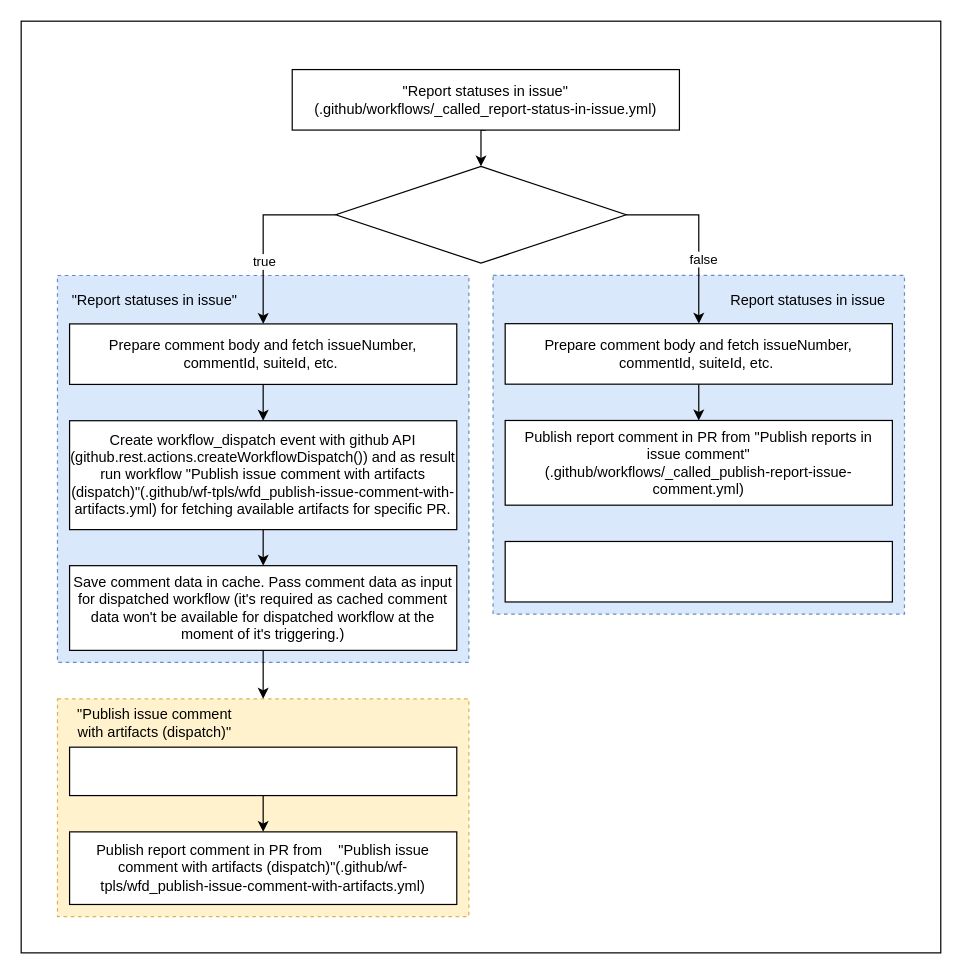
Some shapes in this 962 by 974 pixel diagram are drawn without their labels. Here are the shapes that lost their labels. From the top down, the box of each, then its label:
(335, 165, 626, 263): input: publish-artifacts-list
(504, 540, 892, 602): Save comment data in cache
(68, 746, 457, 796): Fetch available artifacts.
